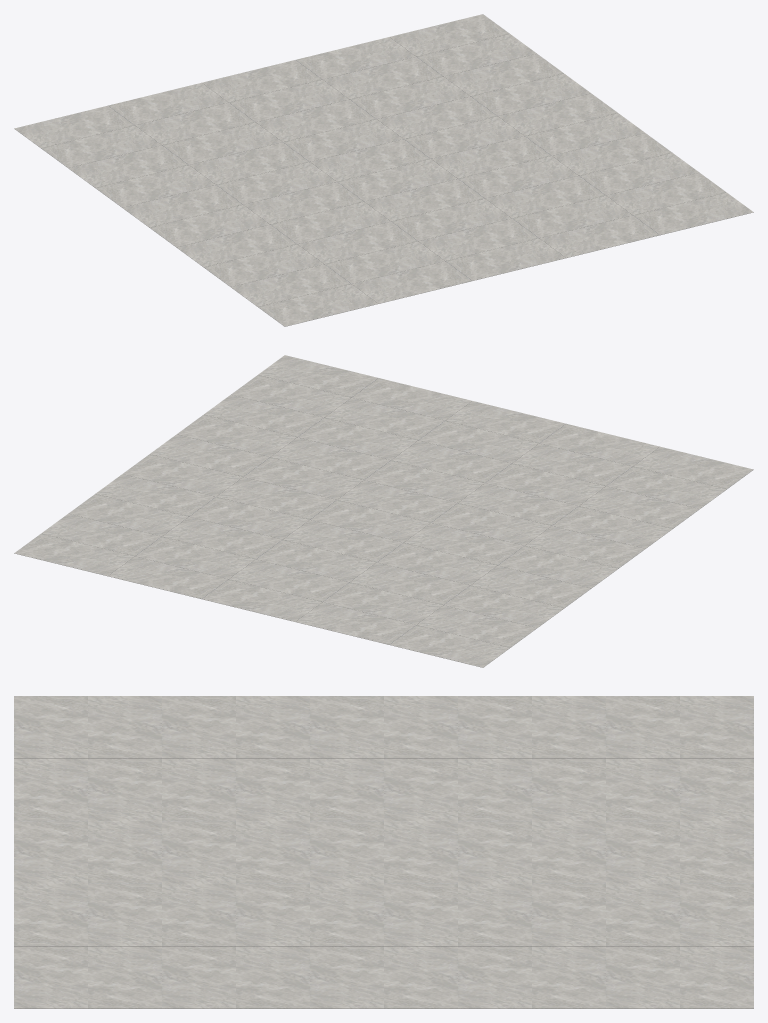
File: versailles-80x160.glb
The picture shows the model from 3 angles, top to bottom: view 1: azimuth 30°, elevation 25°; view 2: azimuth 150°, elevation 25°; view 3: azimuth 270°, elevation 25°; orthographic projection. The views are drawn at different scales.
Visible parts, largest first — view 1: Versailles; view 2: Versailles; view 3: Versailles.
Part boxes in pixels (<box>): Versailles: <box>14,14,753,326</box>; Versailles: <box>14,355,753,667</box>; Versailles: <box>14,696,753,1008</box>.
Bounding box in the file's own units: 8 × 0.003 × 8.
2 materials, 1 textured.
